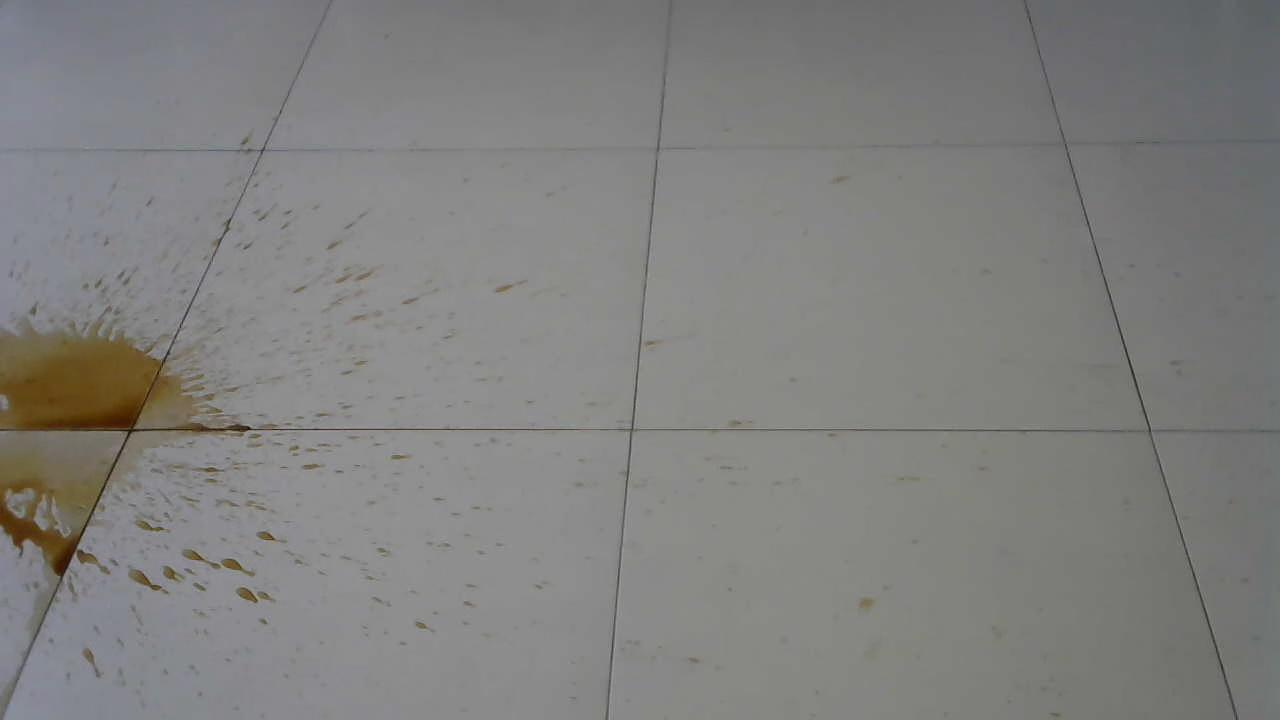dirty_floor: (6, 269, 427, 688)
